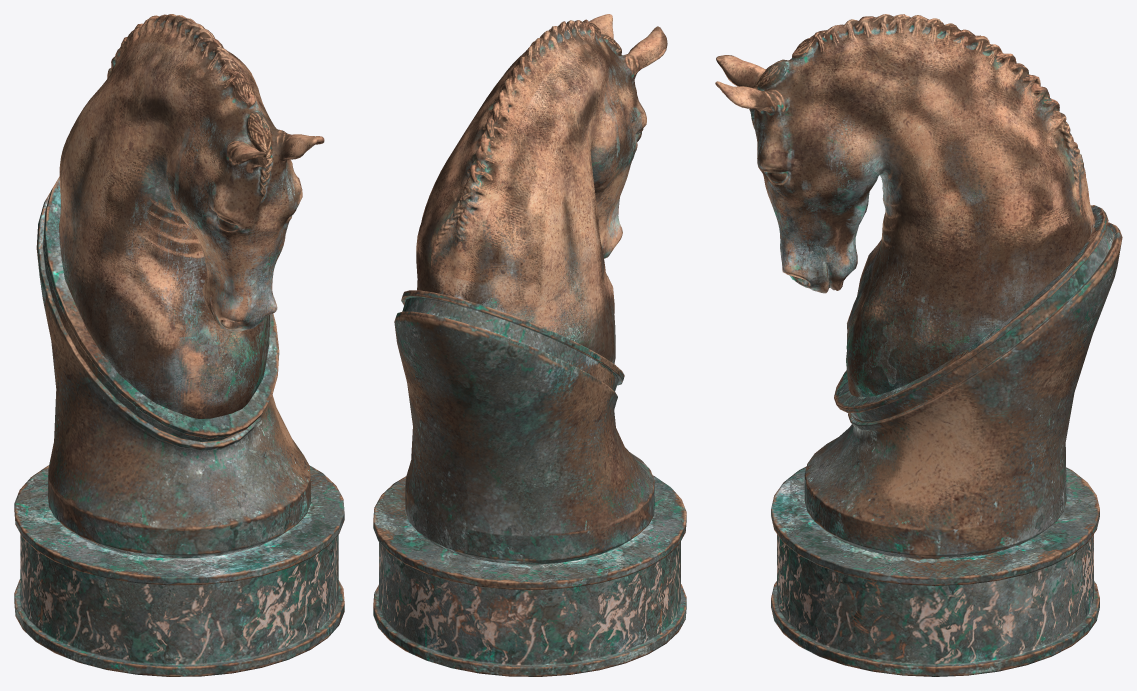
Rendered from skvot_lesson__horse_head_sculpting.glb.
The picture shows the model from 3 angles, left to right: view 1: azimuth 30°, elevation 25°; view 2: azimuth 150°, elevation 25°; view 3: azimuth 270°, elevation 25°; orthographic projection. The views are drawn at different scales.
Visible parts, largest first — view 1: Object_2, Object_3; view 2: Object_2, Object_3; view 3: Object_2, Object_3.
Boxes of the visible parts, bbox=[...] form: Object_2: bbox=[14, 176, 344, 676]; Object_3: bbox=[59, 14, 324, 418]; Object_2: bbox=[373, 290, 686, 676]; Object_3: bbox=[416, 14, 667, 363]; Object_2: bbox=[771, 205, 1122, 676]; Object_3: bbox=[715, 14, 1095, 396].
Size of the model in its own units: 2.63 by 5.23 by 3.25.
Materials: 2 (2 with a texture image).
